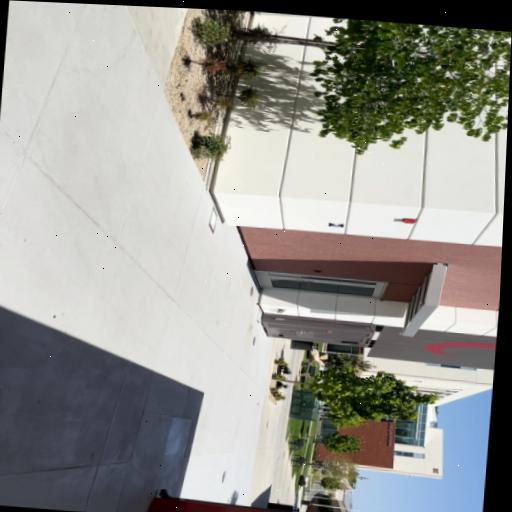target6: (328, 222, 344, 227)
